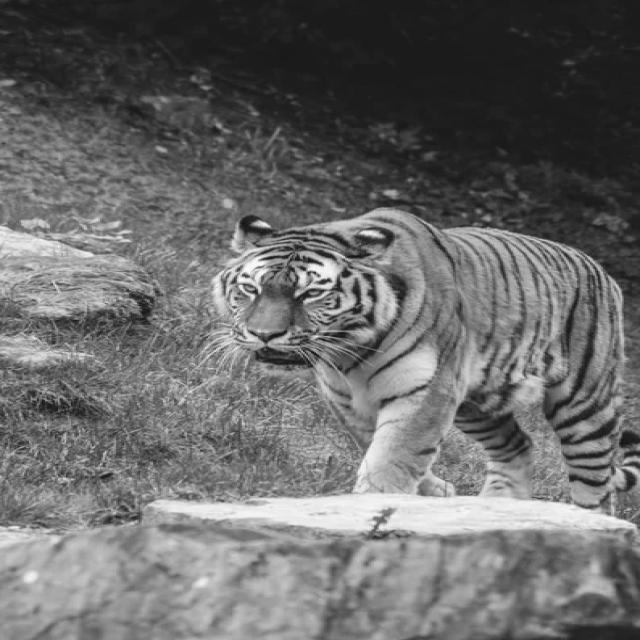Animal: (217, 207, 640, 510)
Stone: (0, 227, 161, 323)
